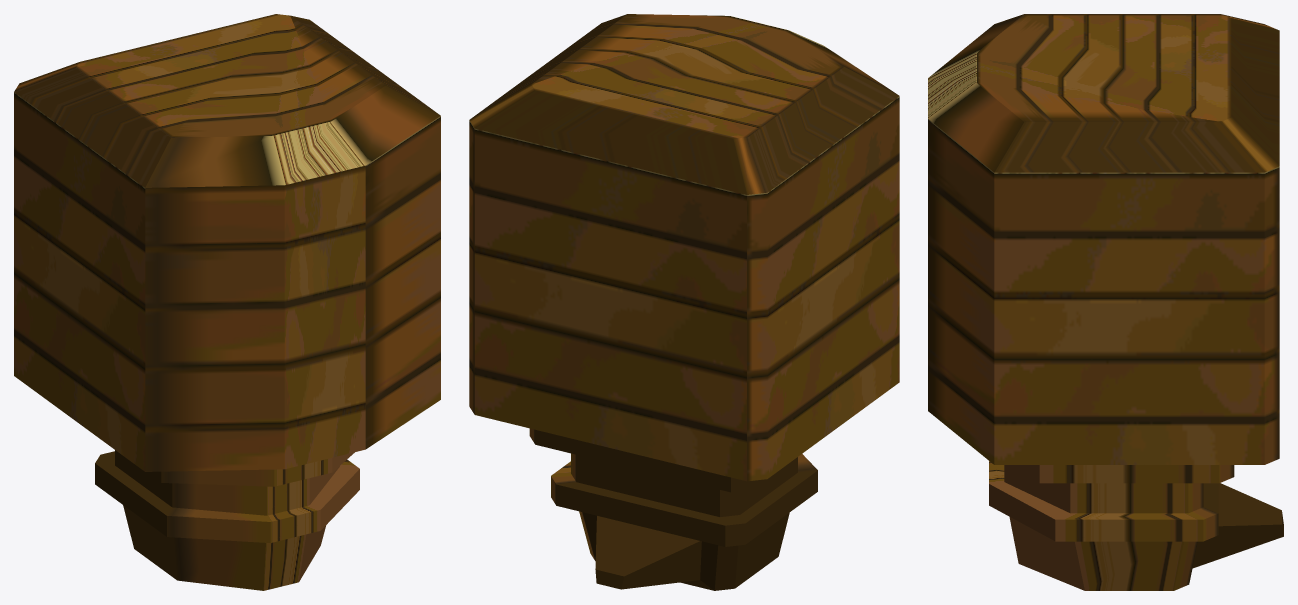
The model's file is Propeller.obj.
3 views of the same model, side by side, from view 1: azimuth 30°, elevation 25°; view 2: azimuth 150°, elevation 25°; view 3: azimuth 270°, elevation 25° (orthographic). The views are drawn at different scales.
Parts seen in each view (by area): view 1: PropellerBase; view 2: PropellerBase; view 3: PropellerBase.
Part boxes in pixels (left/top/right/bottom): PropellerBase: left=14, top=14, right=440, bottom=590; PropellerBase: left=469, top=14, right=899, bottom=590; PropellerBase: left=928, top=14, right=1283, bottom=590.
Size of the model in its own units: 16 by 24.45 by 16.19.
Materials: 1 (1 with a texture image).
